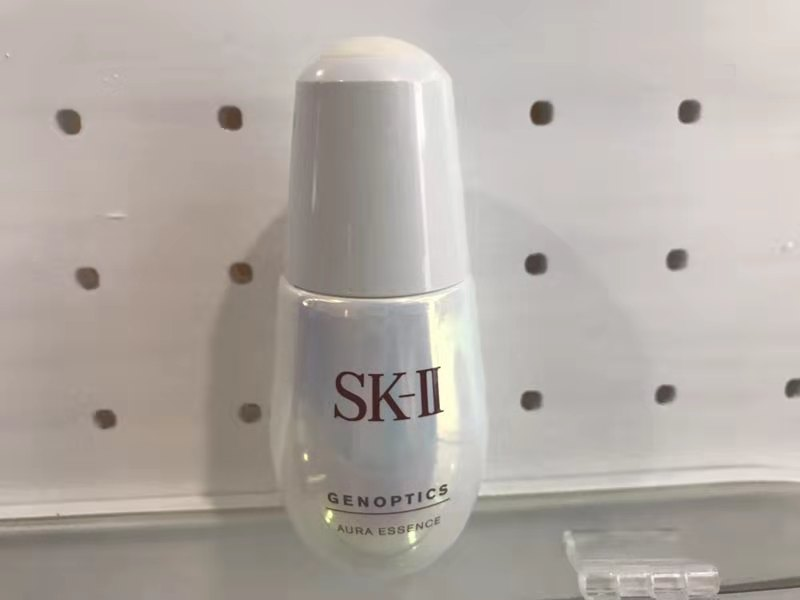sk2: (258, 21, 503, 586)
